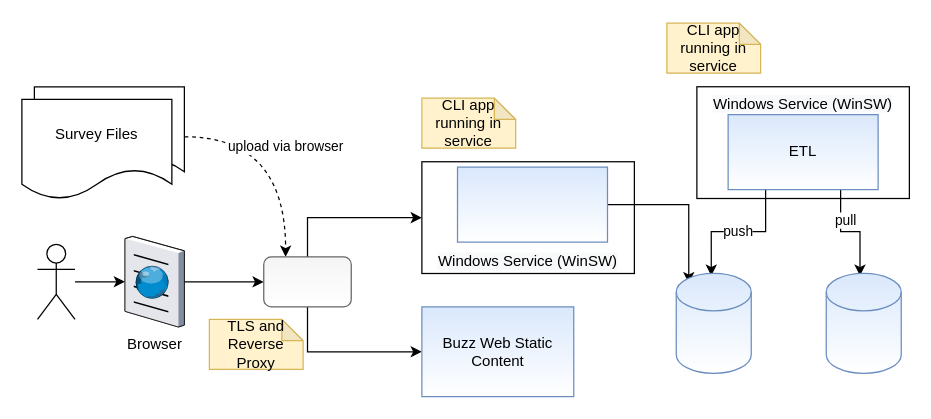
This 931x419 diagram has some shape labels left out. The shapes that lost their labels are listed below. From the top down, each one's centre as x and y in pixels, then its label:
At (532,204): "Buzz Web API".
At (55,281): "Actor".
At (306,281): "IIS or NGiNX".
At (713,322): "Buzz DB".
At (863,322): "ODS".
